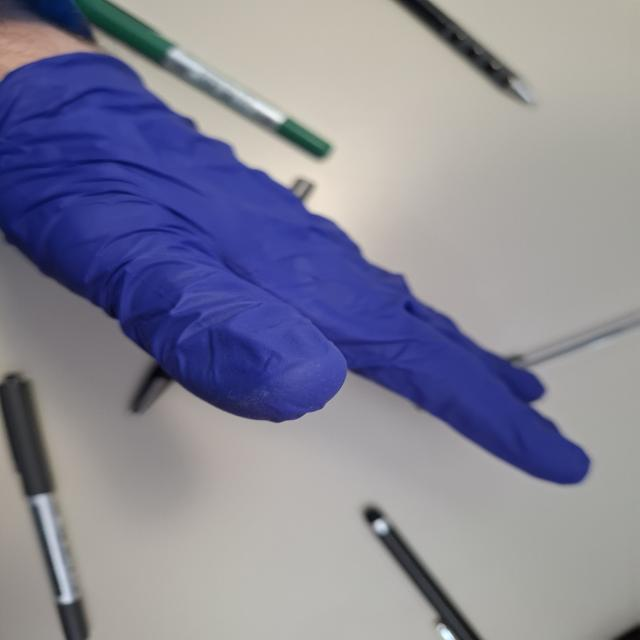glove_on: (0, 46, 595, 487)
